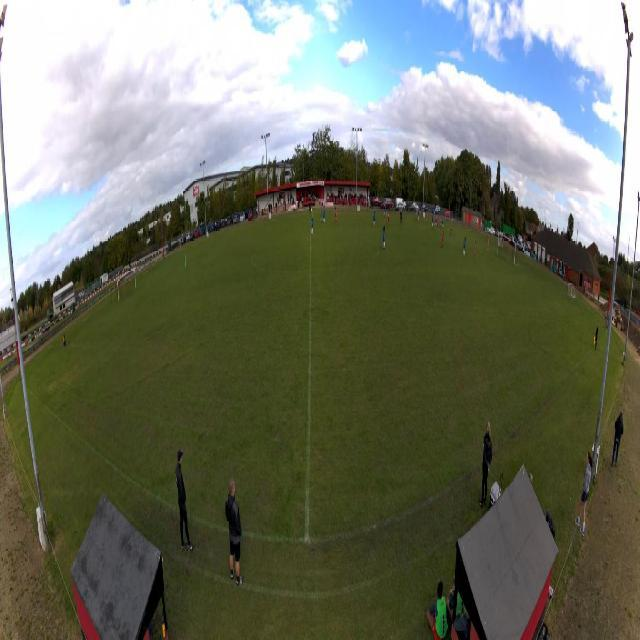ball: (384, 204, 385, 206)
player: (382, 225, 386, 250), (463, 236, 467, 256), (311, 213, 314, 237), (184, 253, 187, 274), (335, 206, 338, 225), (323, 206, 326, 224), (373, 210, 376, 228), (441, 230, 444, 248), (474, 240, 477, 258), (387, 211, 390, 228), (383, 205, 387, 216), (400, 209, 402, 226), (487, 237, 489, 253), (434, 214, 436, 228), (450, 222, 452, 236), (432, 215, 434, 227), (439, 216, 441, 228), (442, 217, 444, 228), (437, 214, 438, 228), (418, 209, 419, 220), (427, 213, 428, 224), (436, 215, 437, 226), (416, 209, 417, 219)
